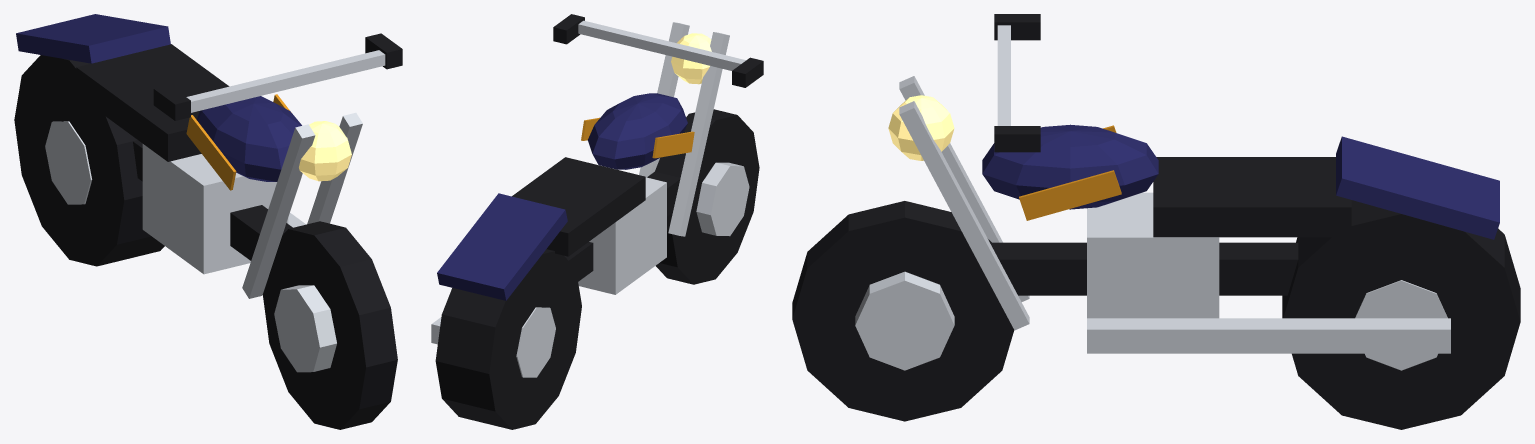
The model's file is heavy_bike.glb.
3 views of the same model, side by side, from view 1: azimuth 30°, elevation 25°; view 2: azimuth 150°, elevation 25°; view 3: azimuth 270°, elevation 25° (orthographic). The views are drawn at different scales.
Parts seen in each view (by area): view 1: wheels_tire, engine_chrome, seat_moped_black, wheels_chrome, tank_bike_paint, forks_chrome, fender_bike_paint, bars_chrome, lights_moped_light, frame_moped_black, bars_moped_black, flames_moped_flame; view 2: wheels_tire, fender_bike_paint, seat_moped_black, engine_chrome, tank_bike_paint, wheels_chrome, forks_chrome, bars_chrome, bars_moped_black, frame_moped_black, lights_moped_light, flames_moped_flame; view 3: wheels_tire, seat_moped_black, engine_chrome, exhaust_chrome, wheels_chrome, fender_bike_paint, frame_moped_black, tank_bike_paint, forks_chrome, flames_moped_flame, bars_moped_black, lights_moped_light (+1 smaller).
Part boxes in pixels (x1=…): wheels_tire: x1=14, y1=55, x2=397, y2=429; engine_chrome: x1=142, y1=144, x2=288, y2=274; seat_moped_black: x1=76, y1=44, x2=229, y2=161; wheels_chrome: x1=45, y1=121, x2=336, y2=372; tank_bike_paint: x1=197, y1=96, x2=301, y2=181; forks_chrome: x1=242, y1=112, x2=362, y2=298; fender_bike_paint: x1=16, y1=14, x2=170, y2=63; bars_chrome: x1=186, y1=50, x2=385, y2=112; lights_moped_light: x1=299, y1=121, x2=351, y2=181; frame_moped_black: x1=133, y1=140, x2=292, y2=269; bars_moped_black: x1=153, y1=33, x2=402, y2=120; flames_moped_flame: x1=186, y1=94, x2=291, y2=190; wheels_tire: x1=435, y1=109, x2=759, y2=429; fender_bike_paint: x1=437, y1=193, x2=567, y2=300; seat_moped_black: x1=512, y1=157, x2=645, y2=256; engine_chrome: x1=578, y1=177, x2=666, y2=294; tank_bike_paint: x1=587, y1=93, x2=687, y2=169; wheels_chrome: x1=516, y1=162, x2=749, y2=377; forks_chrome: x1=639, y1=22, x2=729, y2=236; bars_chrome: x1=578, y1=20, x2=745, y2=70; bars_moped_black: x1=553, y1=14, x2=763, y2=87; frame_moped_black: x1=564, y1=171, x2=680, y2=281; lights_moped_light: x1=671, y1=33, x2=711, y2=84; flames_moped_flame: x1=581, y1=117, x2=694, y2=158; wheels_tire: x1=792, y1=200, x2=1520, y2=429; seat_moped_black: x1=1153, y1=157, x2=1351, y2=237; engine_chrome: x1=1087, y1=192, x2=1219, y2=318; exhaust_chrome: x1=1087, y1=318, x2=1450, y2=353; wheels_chrome: x1=855, y1=271, x2=1447, y2=370; fender_bike_paint: x1=1336, y1=136, x2=1499, y2=239; frame_moped_black: x1=971, y1=242, x2=1298, y2=295; tank_bike_paint: x1=982, y1=124, x2=1158, y2=209; forks_chrome: x1=899, y1=76, x2=1029, y2=330; flames_moped_flame: x1=1019, y1=125, x2=1121, y2=220; bars_moped_black: x1=994, y1=14, x2=1040, y2=152; lights_moped_light: x1=888, y1=95, x2=954, y2=160.
Bounding box in the file's own units: 0.86 × 1.13 × 2.2.
